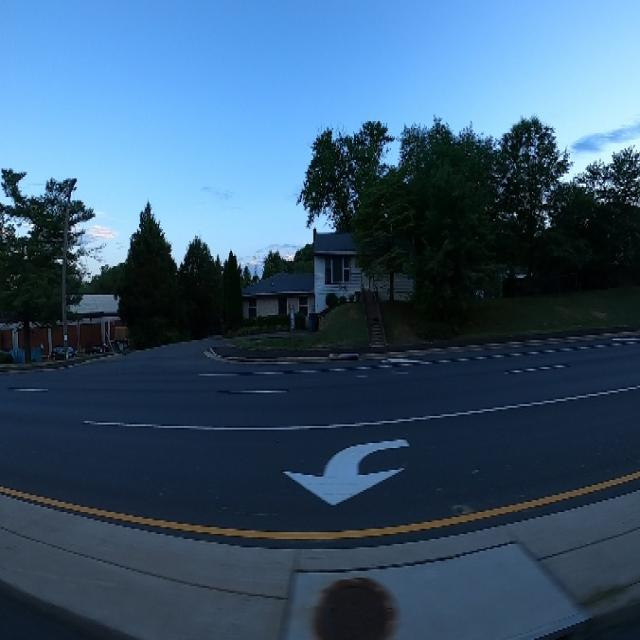cars: (52, 338, 74, 364)
